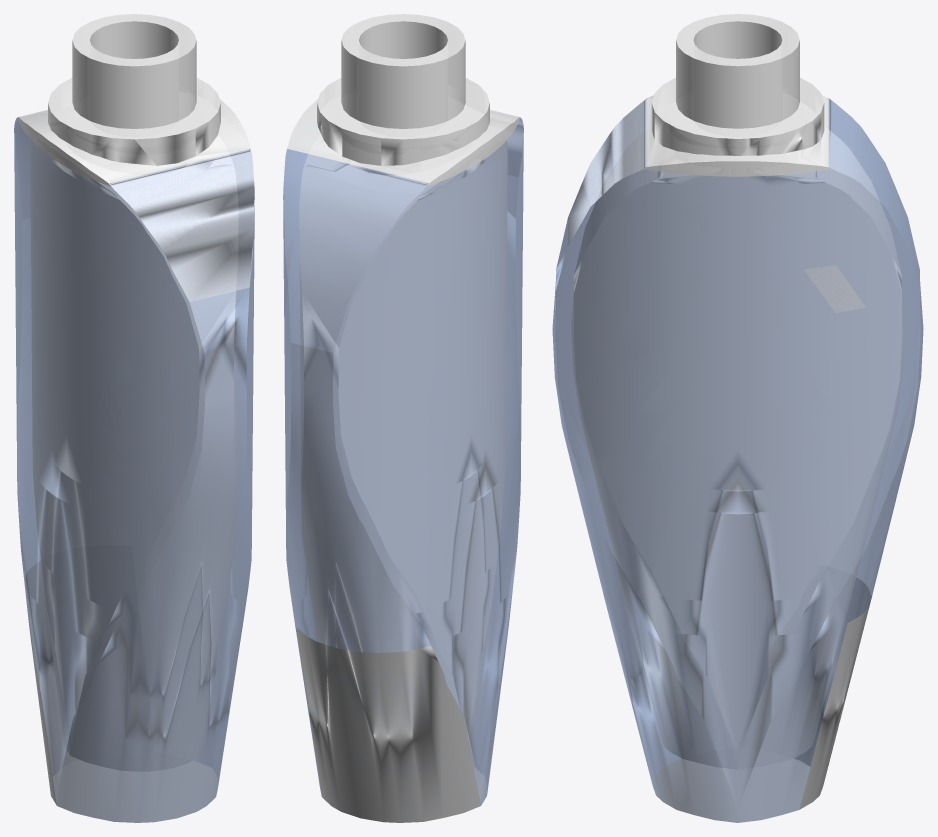
3 renders of one model, left to right at view 1: azimuth 30°, elevation 25°; view 2: azimuth 150°, elevation 25°; view 3: azimuth 270°, elevation 25°, orthographic.
Size of the model in its own units: 0.3572 by 1.49 by 0.6722.
